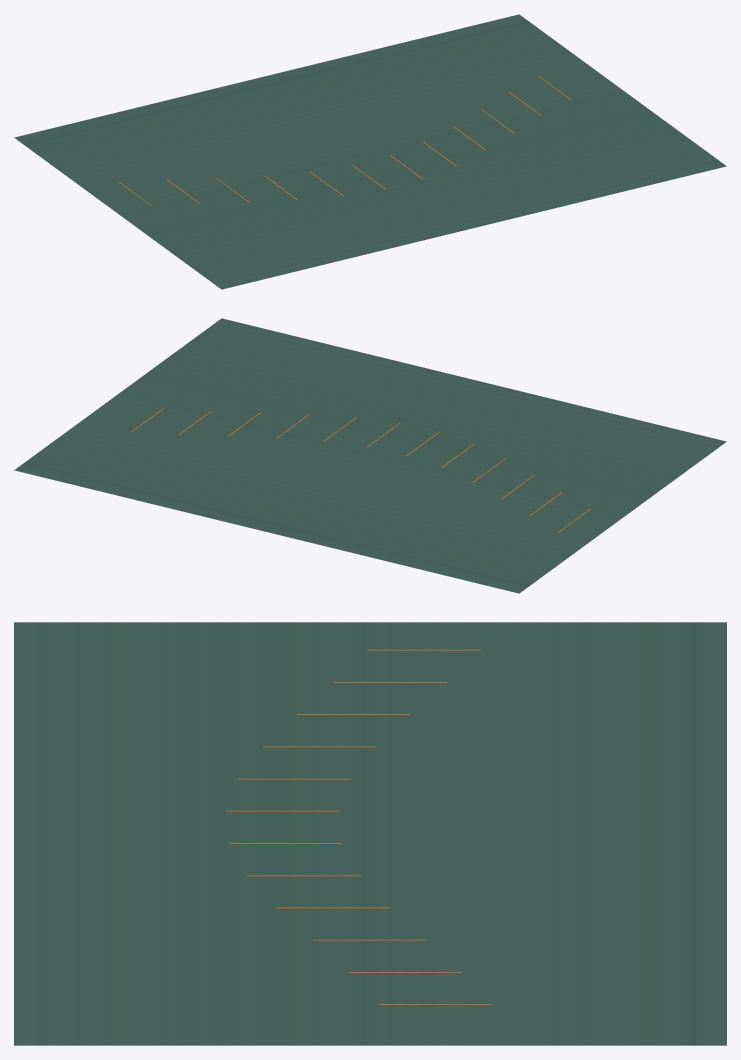
Rendered from 277_L119_L28_LayerReference.obj.
3 renders of one model, top to bottom at view 1: azimuth 30°, elevation 25°; view 2: azimuth 150°, elevation 25°; view 3: azimuth 270°, elevation 25°, orthographic. The views are drawn at different scales.
Parts seen in each view (by area): view 1: 277_L119_L28_LayerReference; view 2: 277_L119_L28_LayerReference; view 3: 277_L119_L28_LayerReference.
Boxes of the visible parts, x1=… form: 277_L119_L28_LayerReference: x1=14, y1=14, x2=726, y2=289; 277_L119_L28_LayerReference: x1=14, y1=318, x2=726, y2=593; 277_L119_L28_LayerReference: x1=14, y1=622, x2=726, y2=1045.
Size of the model in its own units: 0.486 by 5.2e-05 by 0.346.
Materials: 2 (2 with a texture image).
